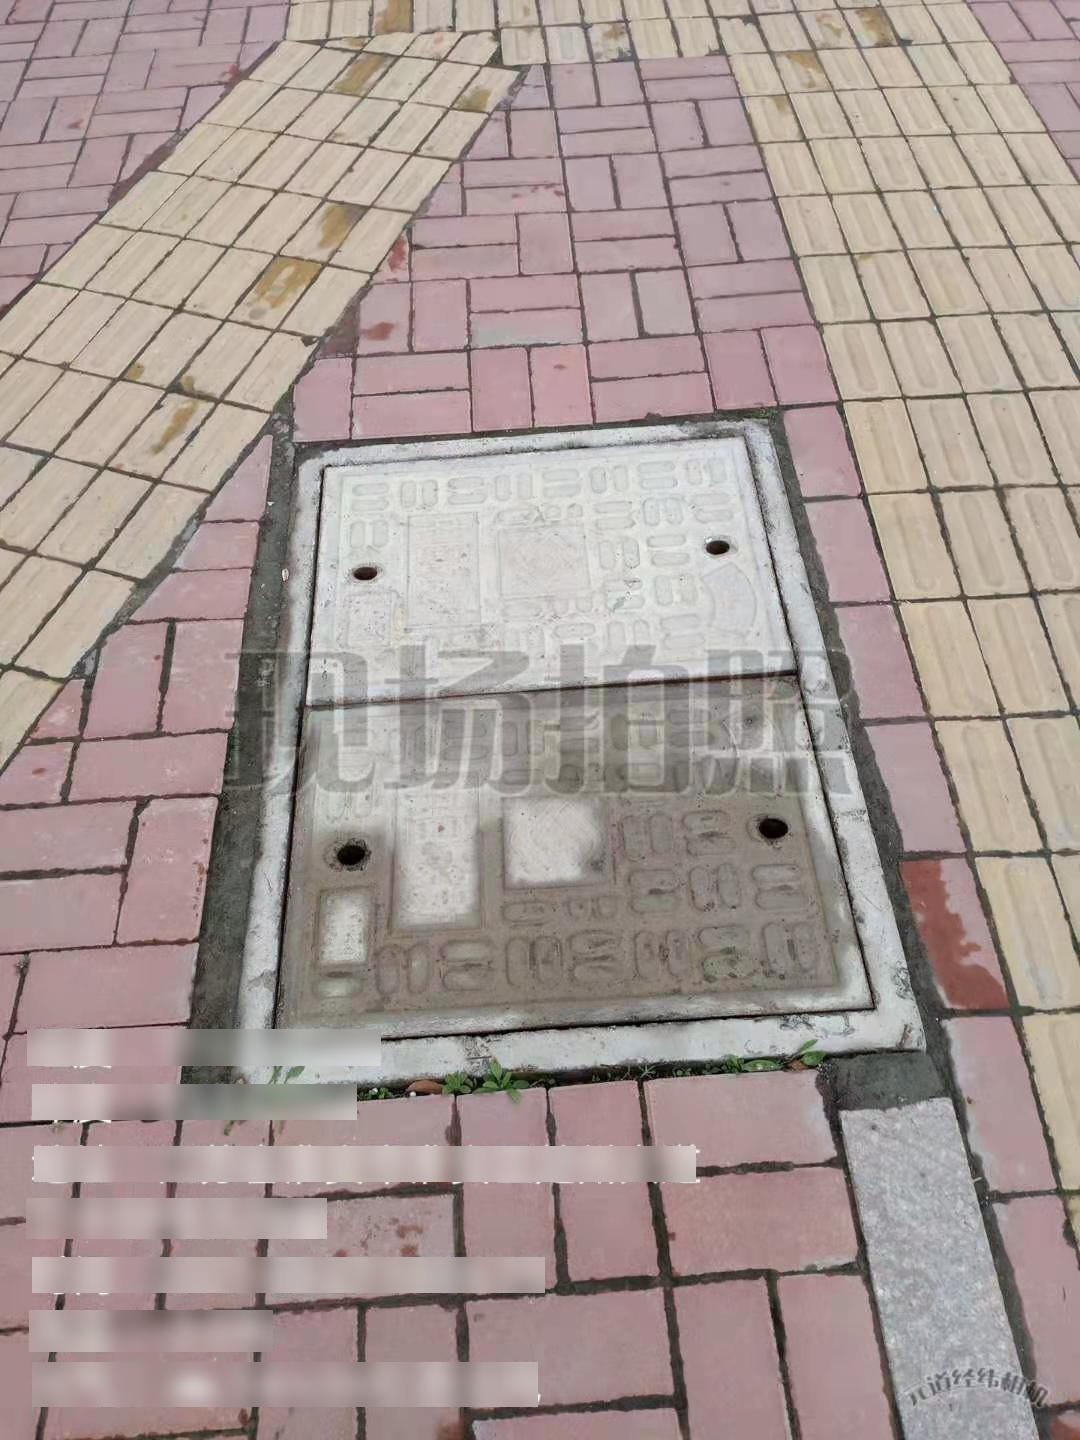well: (231, 412, 916, 1094)
